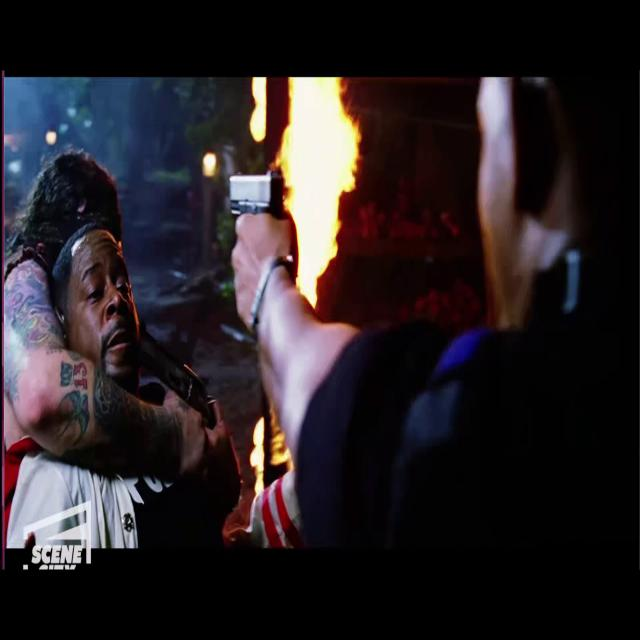weapons: (225, 145, 296, 325)
